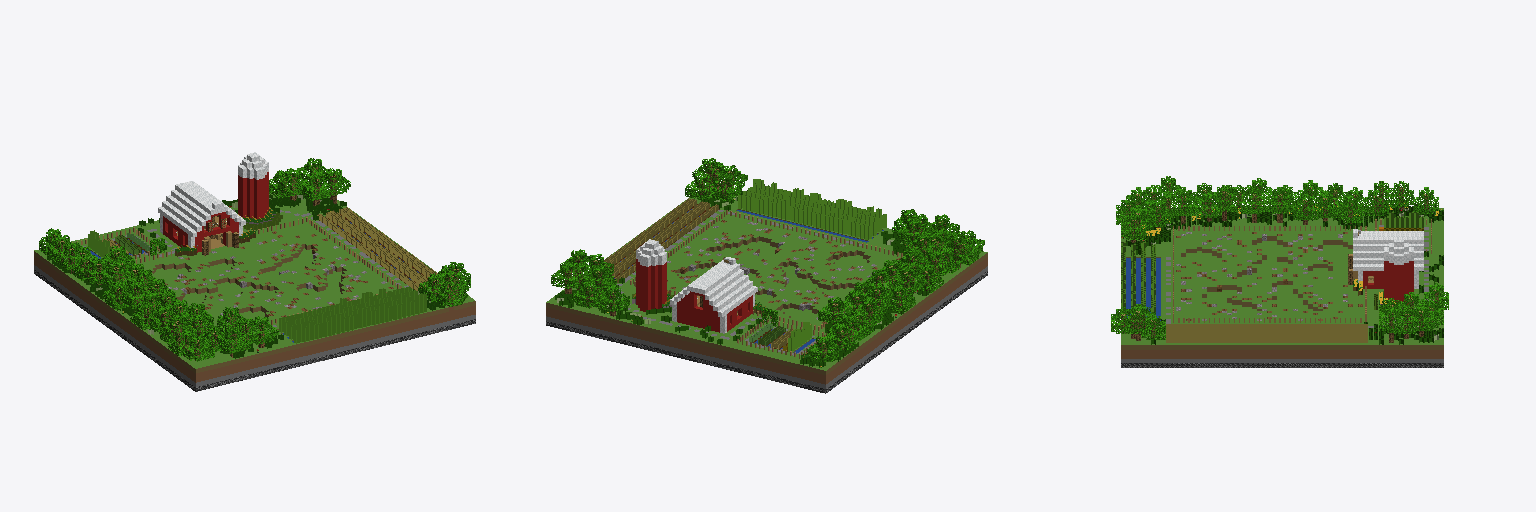
3 renders of one model, left to right at view 1: azimuth 30°, elevation 25°; view 2: azimuth 150°, elevation 25°; view 3: azimuth 270°, elevation 25°, orthographic.
Bounding box in the file's own units: 66 × 19 × 67.
44 materials, 13 textured.